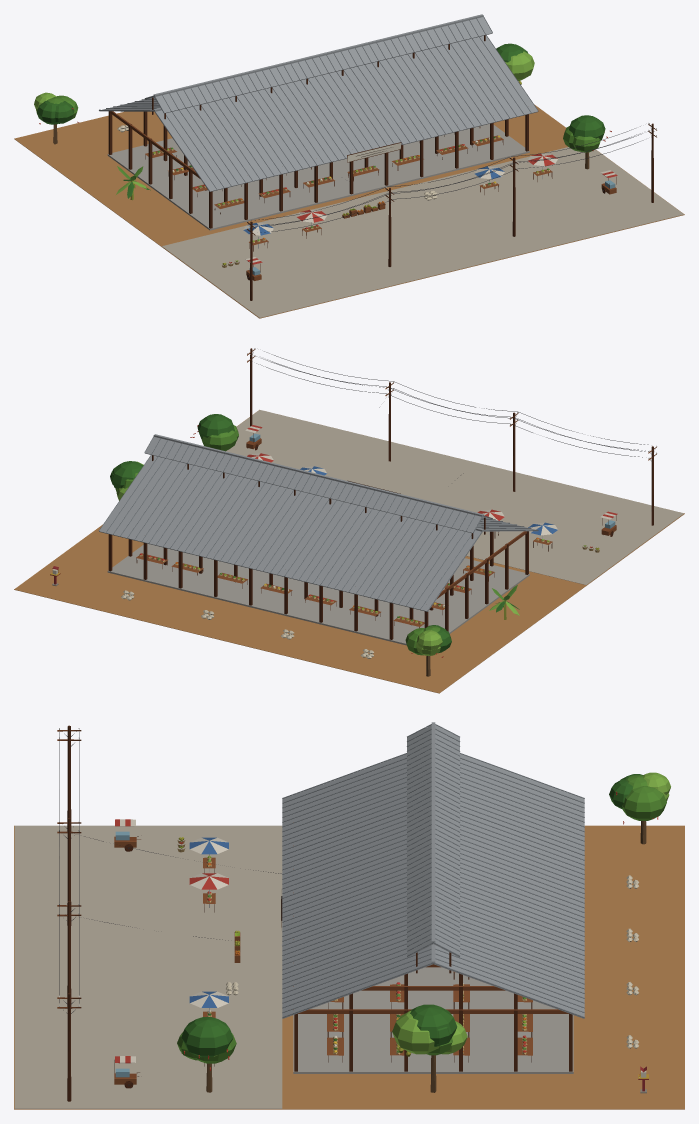
Rendered from market.glb.
The picture shows the model from 3 angles, top to bottom: view 1: azimuth 30°, elevation 25°; view 2: azimuth 150°, elevation 25°; view 3: azimuth 270°, elevation 25°; orthographic projection. The views are drawn at different scales.
Visible parts, largest first — view 1: body; view 2: body; view 3: body.
Boxes of the visible parts, x1,y1,x2,y2 form: body: (14, 14, 684, 318); body: (14, 348, 684, 693); body: (14, 722, 684, 1109).
Size of the model in its own units: 47.9 by 10.75 by 47.9.
